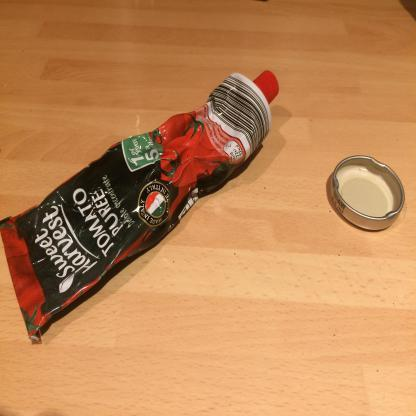metal: (2, 70, 279, 342), (330, 155, 406, 233)
